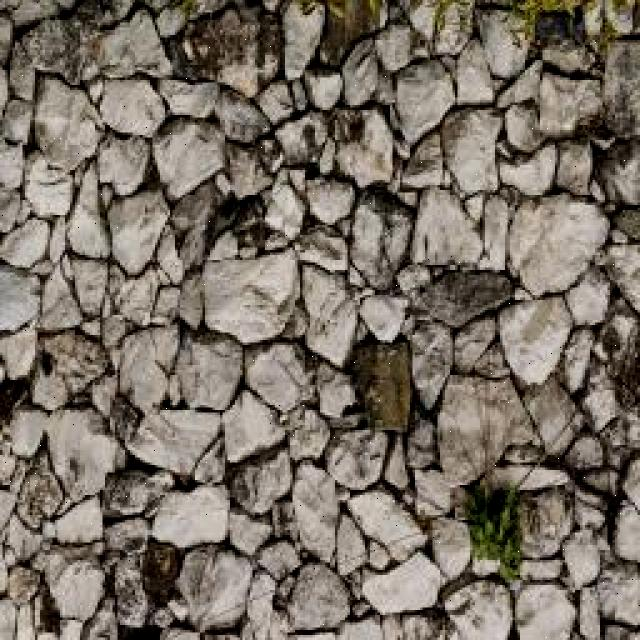crack: (1, 0, 638, 638)
